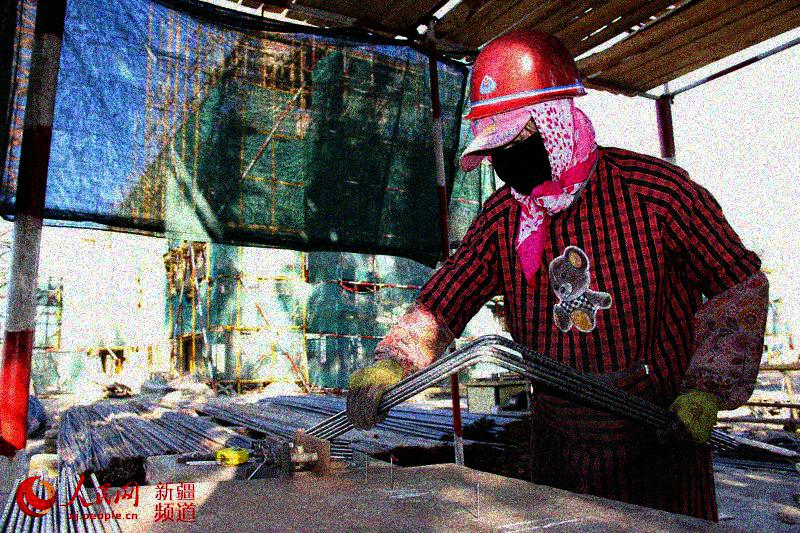helmet: (463, 28, 591, 182)
